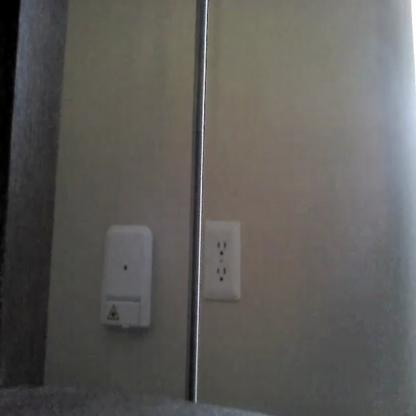OUTLET: (203, 219, 242, 300)
